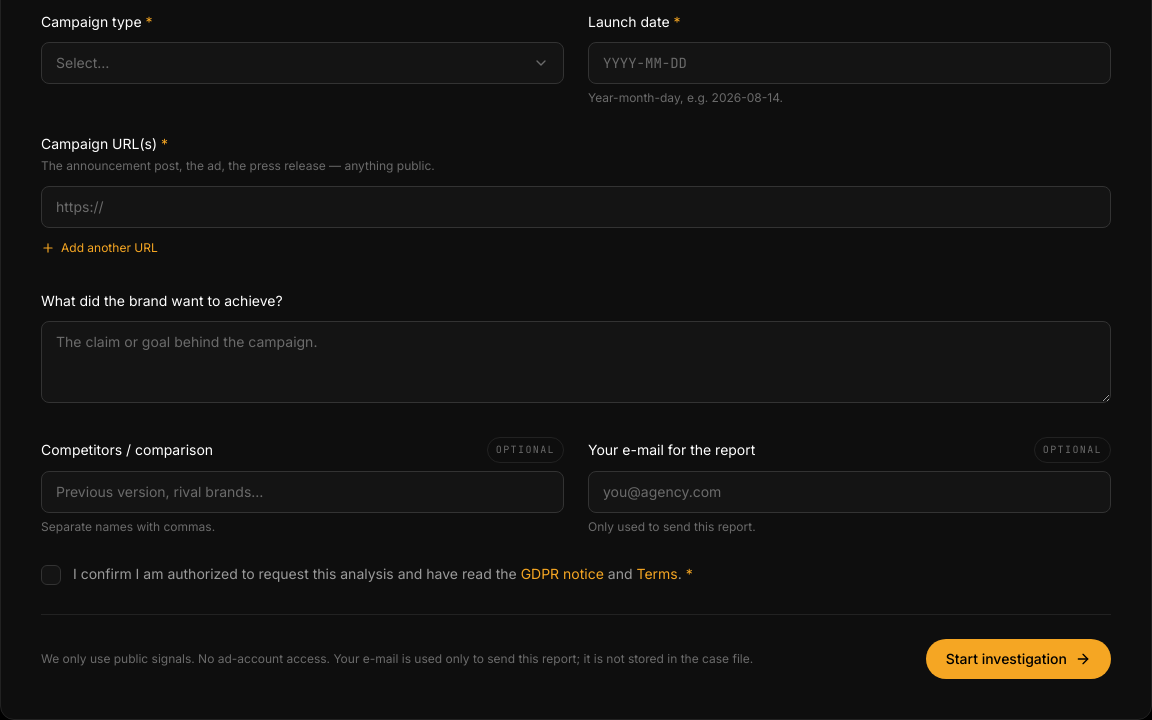
Test case: NewCaseForm › shows errors for every required field and focuses the first
(page scrolled)
Step 1. Click the button "Start investigation" → (1018, 659), box [926, 639, 1111, 679]
(page scrolled)
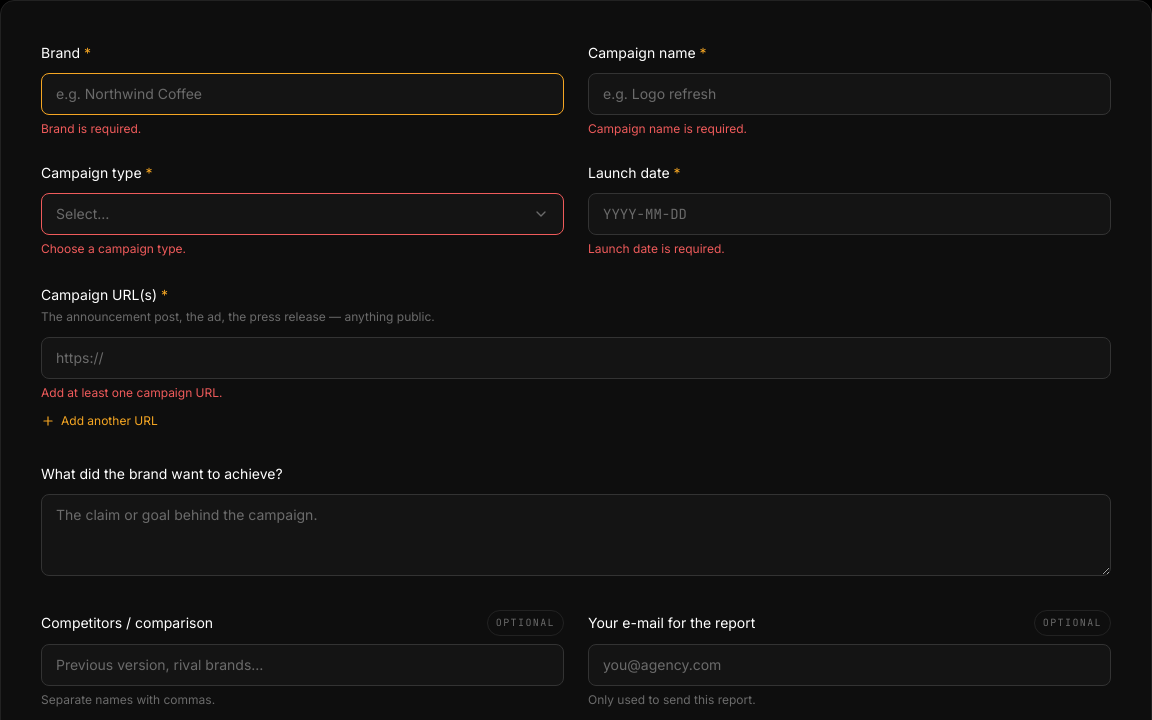
Now the text "Brand is required." is shown, box [41, 121, 141, 136]
Now the text "Campaign name is required." is shown, box [588, 121, 747, 136]
Now the text "Choose a campaign type." is shown, box [41, 241, 186, 256]
